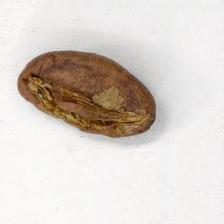NG: (26, 62, 139, 137)
